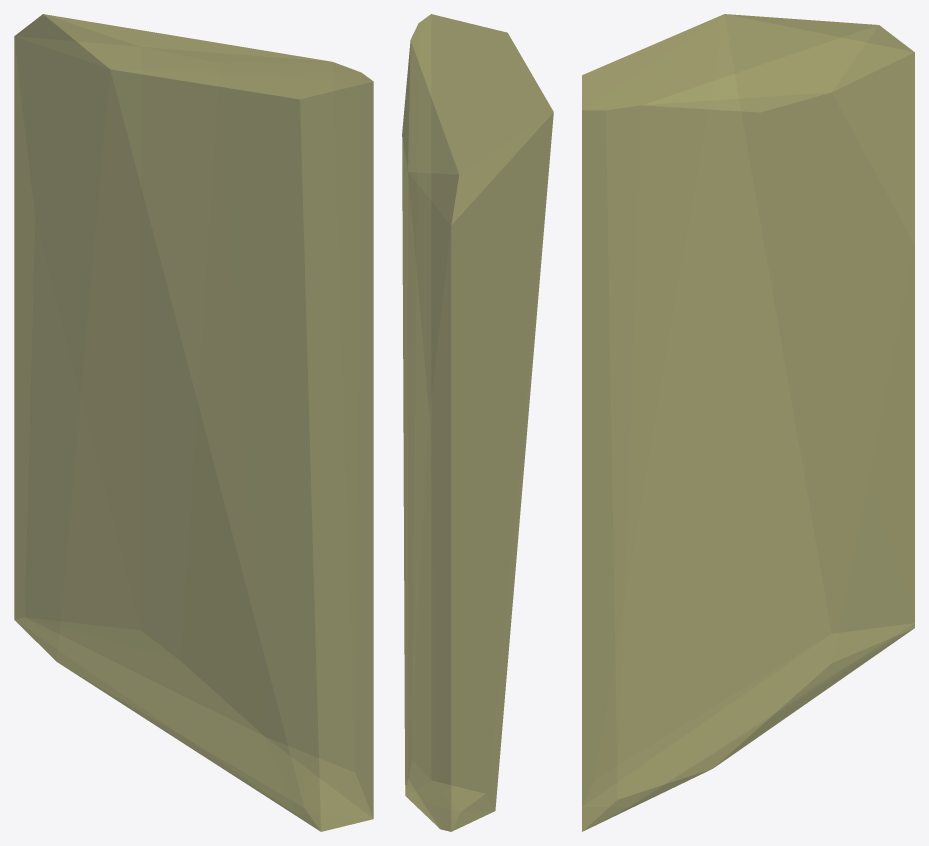
The picture shows the model from 3 angles, left to right: view 1: azimuth 30°, elevation 25°; view 2: azimuth 150°, elevation 25°; view 3: azimuth 270°, elevation 25°; orthographic projection. The views are drawn at different scales.
Visible parts, largest first — view 1: Shape_IndexedFaceSet.006_Shape_IndexedFaceSet.604; view 2: Shape_IndexedFaceSet.006_Shape_IndexedFaceSet.604; view 3: Shape_IndexedFaceSet.006_Shape_IndexedFaceSet.604.
Boxes of the visible parts, box(x1,y1,x2,y2) form: Shape_IndexedFaceSet.006_Shape_IndexedFaceSet.604: box(14, 14, 373, 831); Shape_IndexedFaceSet.006_Shape_IndexedFaceSet.604: box(402, 14, 553, 831); Shape_IndexedFaceSet.006_Shape_IndexedFaceSet.604: box(582, 14, 914, 831).
Size of the model in its own units: 0.0338 by 0.1257 by 0.0522.
